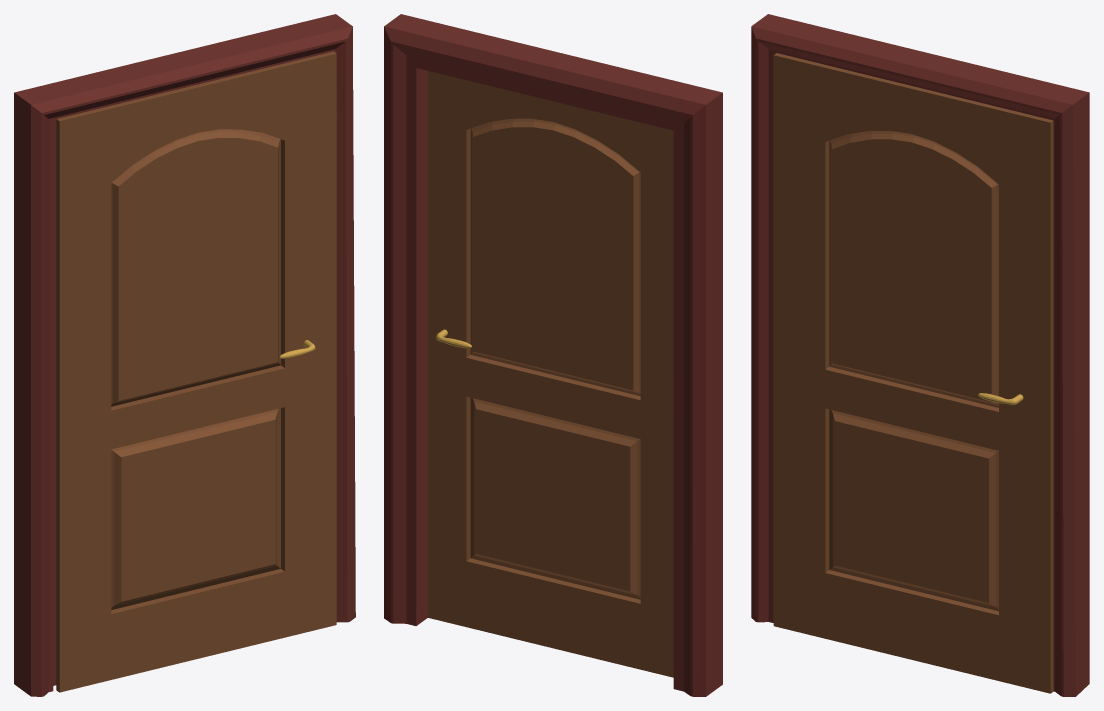
The model's file is Porta.fbx.
3 views of the same model, side by side, from view 1: azimuth 30°, elevation 25°; view 2: azimuth 150°, elevation 25°; view 3: azimuth 330°, elevation 25° (orthographic).
Visible parts, largest first — view 1: Porta; view 2: Porta; view 3: Porta.
Boxes of the visible parts, x1,y1,x2,y2 form: Porta: [14, 14, 355, 696]; Porta: [384, 14, 722, 696]; Porta: [751, 14, 1089, 696].
Bounding box in the file's own units: 1.37 × 2.38 × 0.2372.
